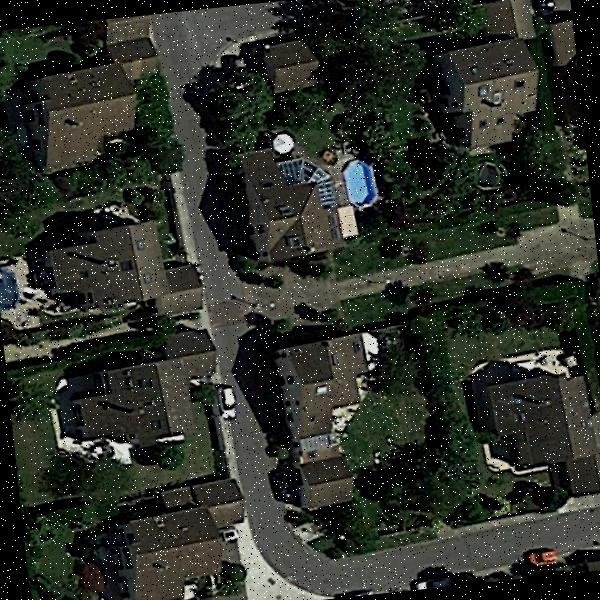Buildings: (276, 336, 379, 506), (115, 480, 250, 600), (79, 343, 218, 448), (53, 220, 198, 320), (491, 368, 600, 495), (434, 34, 542, 138), (245, 153, 343, 258), (27, 58, 132, 154), (104, 19, 163, 70), (264, 47, 318, 88), (483, 0, 532, 42)
